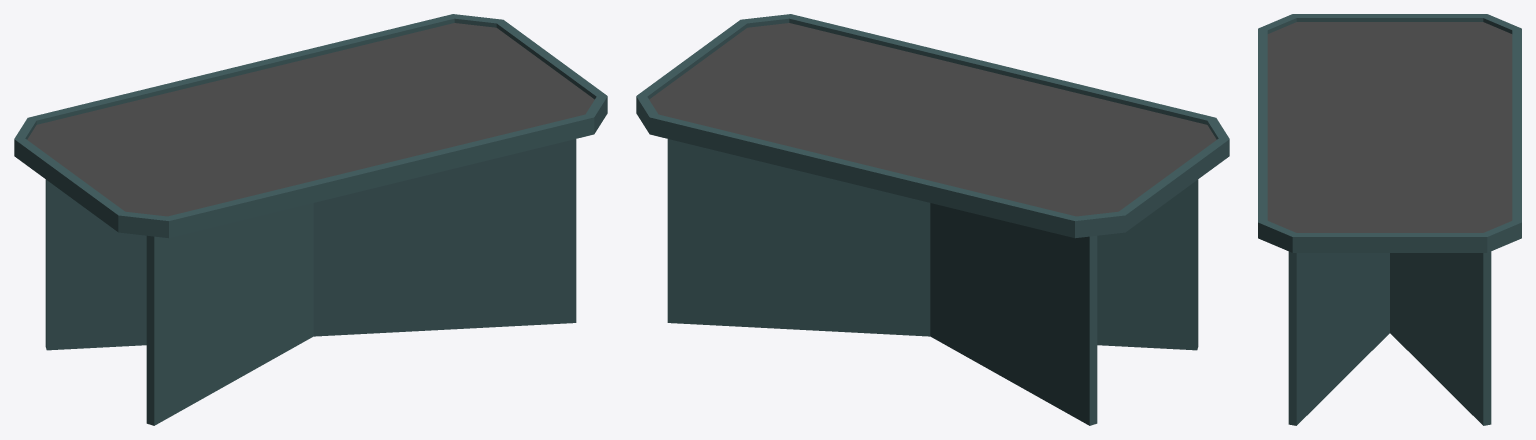
File: LowTable.fbx
3 views of the same model, side by side, from view 1: azimuth 30°, elevation 25°; view 2: azimuth 150°, elevation 25°; view 3: azimuth 270°, elevation 25° (orthographic). The views are drawn at different scales.
Parts seen in each view (by area): view 1: Low Table; view 2: Low Table; view 3: Low Table.
Boxes of the visible parts, x1=… form: Low Table: x1=14, y1=14, x2=607, y2=425; Low Table: x1=636, y1=14, x2=1229, y2=425; Low Table: x1=1258, y1=14, x2=1521, y2=425.
Bounding box in the file's own units: 120 × 50.88 × 60.
